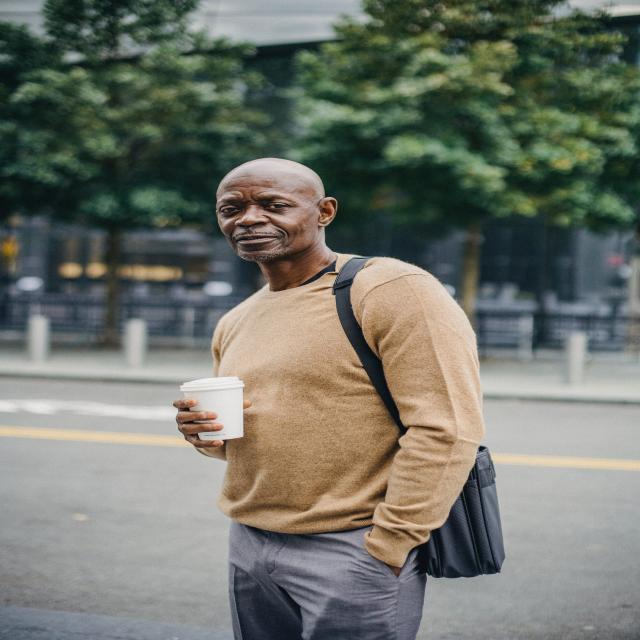cup: (178, 372, 247, 440)
